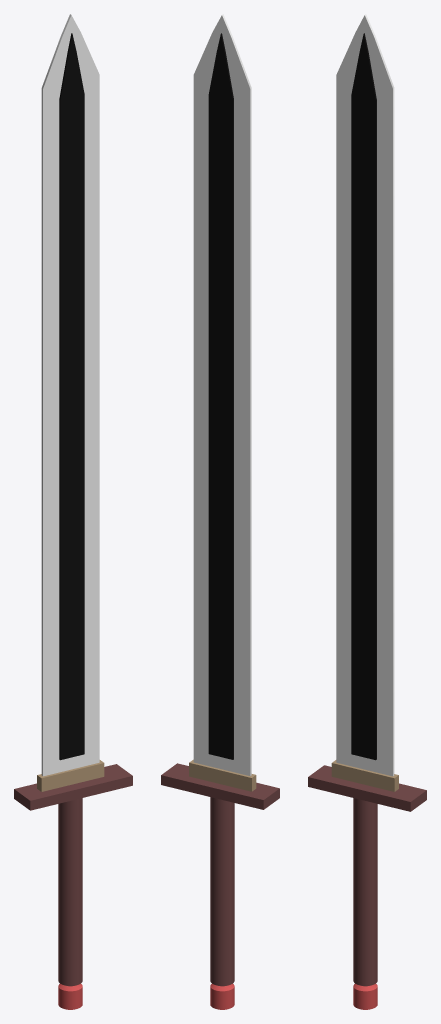
File: sword.fbx
3 renders of one model, left to right at view 1: azimuth 30°, elevation 25°; view 2: azimuth 150°, elevation 25°; view 3: azimuth 330°, elevation 25°, orthographic.
Visible parts, largest first — view 1: blade, blade_1, Oil_Tank, Hilt, hild_tip, gem; view 2: blade, blade_1, Oil_Tank, Hilt, hild_tip, gem; view 3: blade, blade_1, Oil_Tank, Hilt, hild_tip, gem.
Boxes of the visible parts, box(x1,y1,x2,y2) form: blade: box(41, 14, 99, 776); blade_1: box(59, 33, 84, 760); Oil_Tank: box(58, 798, 82, 986); Hilt: box(14, 764, 132, 810); hild_tip: box(37, 760, 104, 791); gem: box(58, 983, 82, 1009); blade: box(193, 14, 251, 775); blade_1: box(208, 33, 233, 759); Oil_Tank: box(210, 797, 234, 986); Hilt: box(161, 763, 279, 809); hild_tip: box(189, 759, 256, 791); gem: box(210, 983, 234, 1009); blade: box(336, 14, 394, 776); blade_1: box(351, 33, 376, 760); Oil_Tank: box(353, 798, 377, 986); Hilt: box(308, 765, 426, 811); hild_tip: box(331, 760, 398, 791); gem: box(353, 983, 377, 1009).
Size of the model in its own units: 67.97 by 629 by 18.59.
